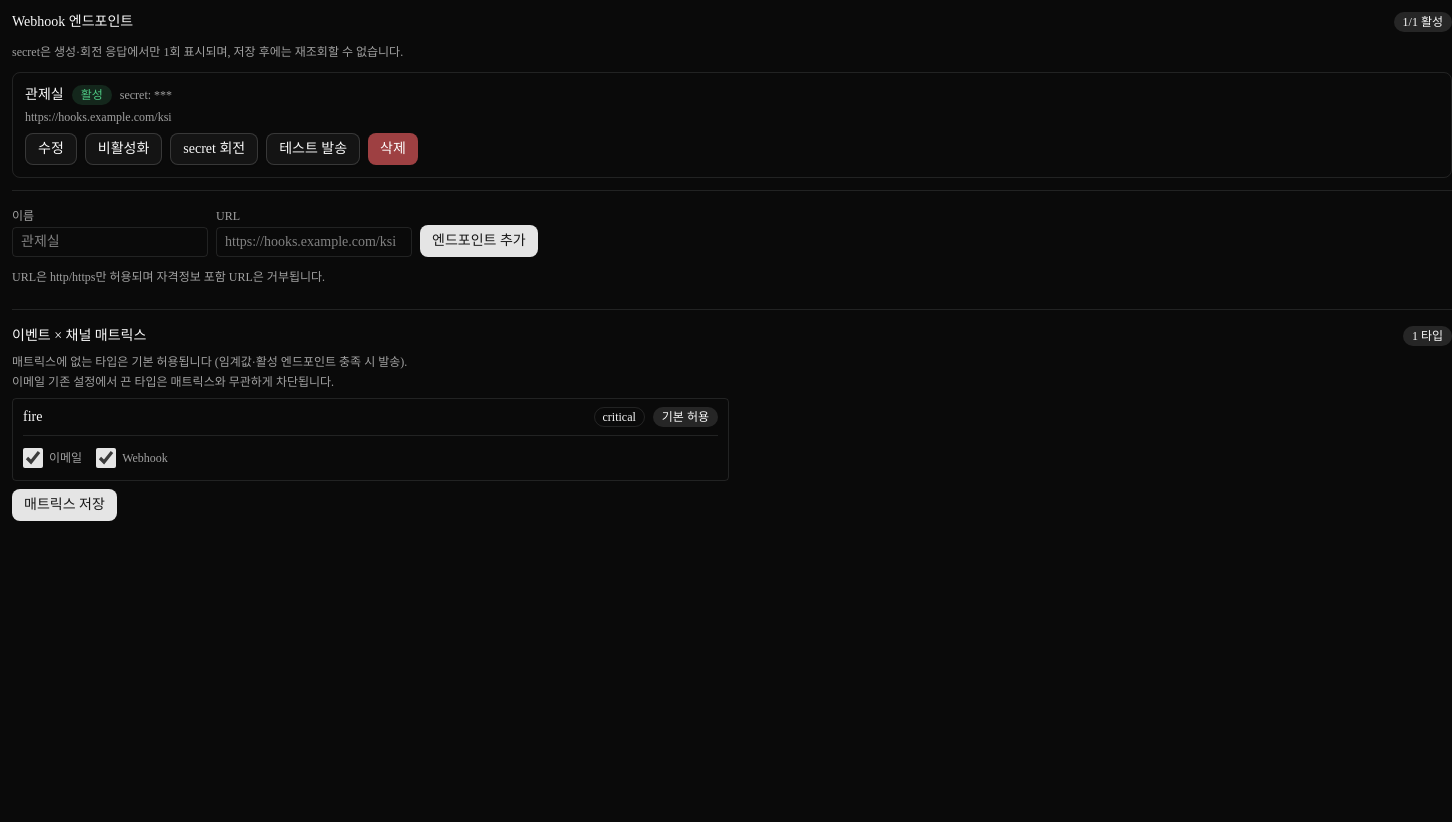
Test case: WebhookSettings › C1: 실형상(중첩 endpoint.secret) 평문을 1회 표시하고 목록에는 ***만 둔다
Type "신규" into the field labelled "이름" at (110, 242), box [12, 227, 208, 257]
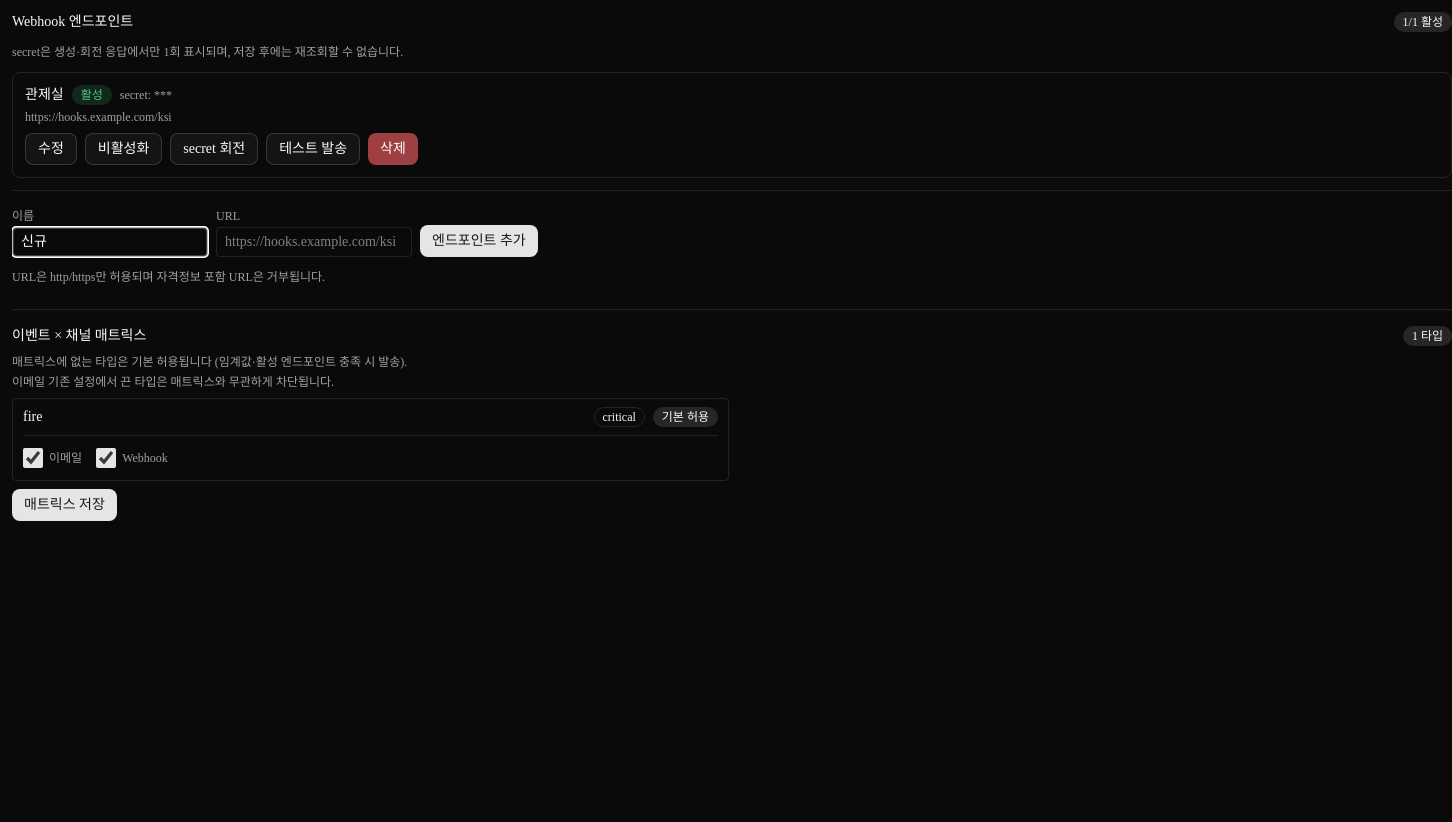
Type "https://hooks.example.com/new" into the field labelled "URL" at (314, 242), box [216, 227, 412, 257]
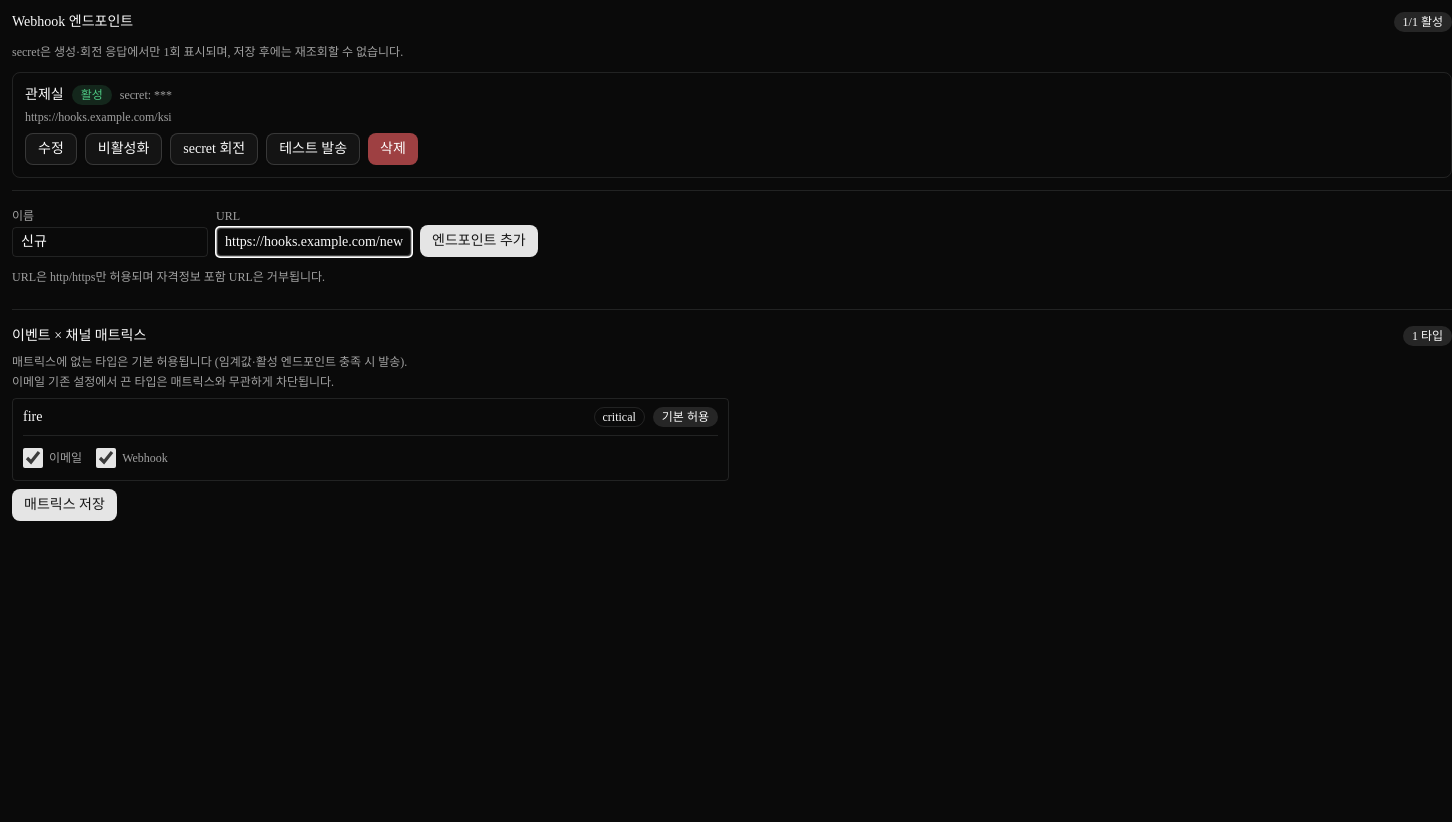
Click the button "엔드포인트 추가" at (479, 241), box [420, 225, 538, 257]
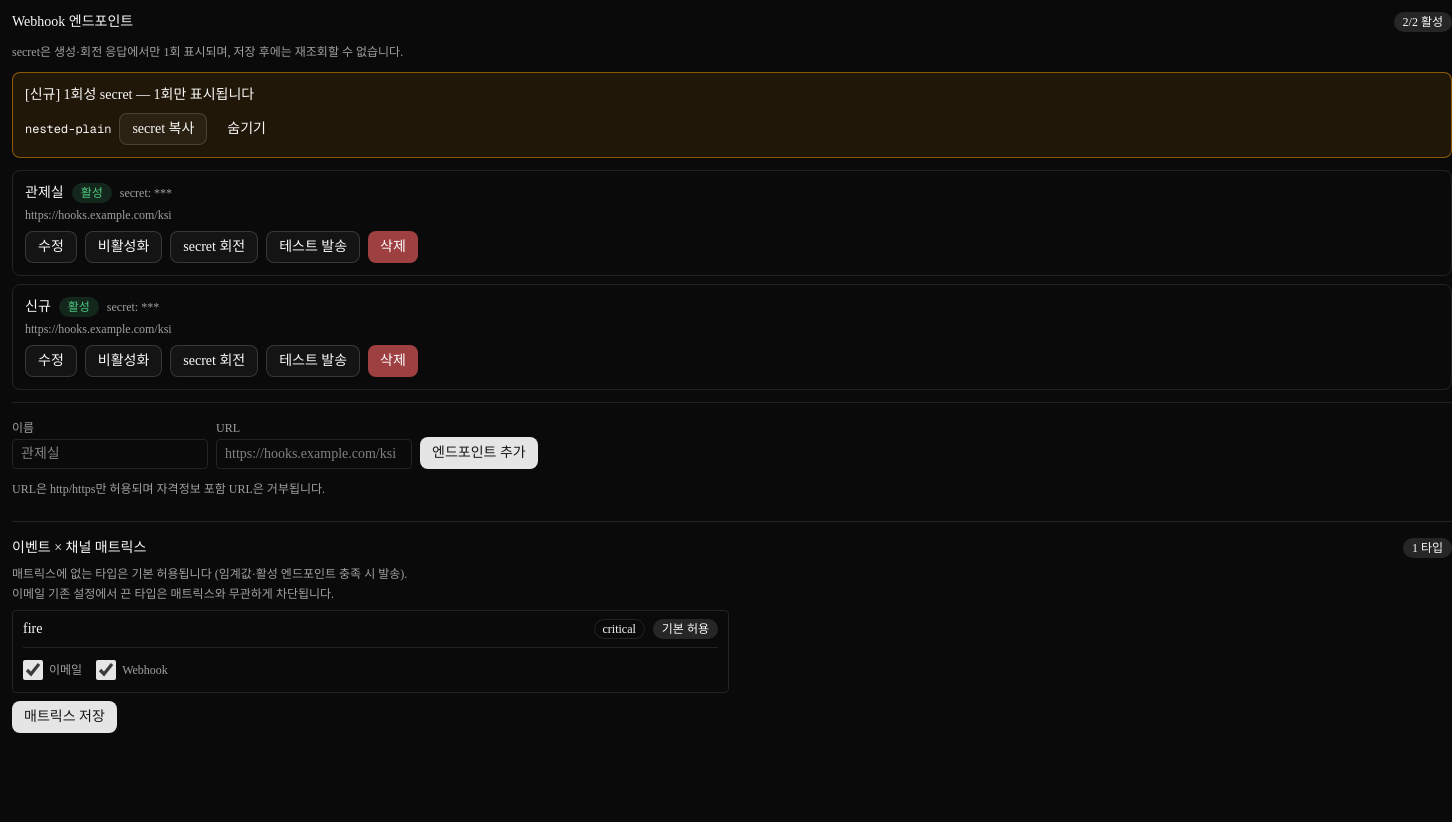
Now the text "nested-plain" is shown, box [25, 121, 111, 137]
Now the 2nd text "secret: ***" is shown, box [107, 299, 159, 315]
